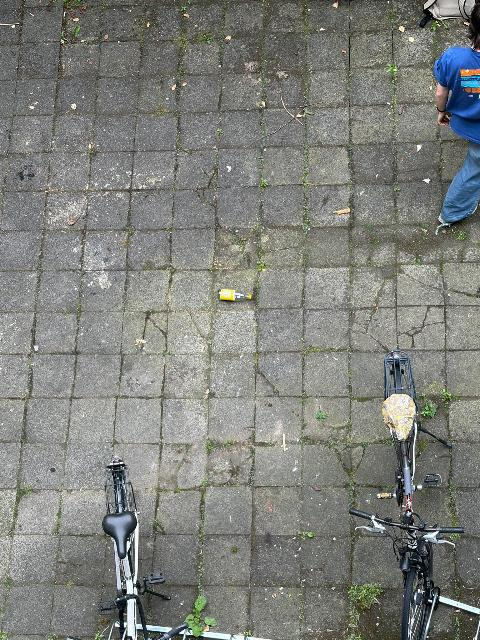glass_bottle: (217, 289, 250, 301)
